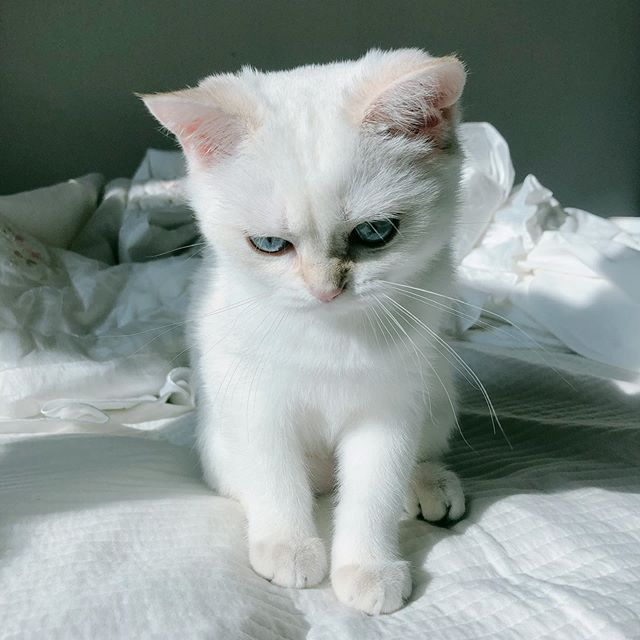cat: (142, 37, 477, 327)
